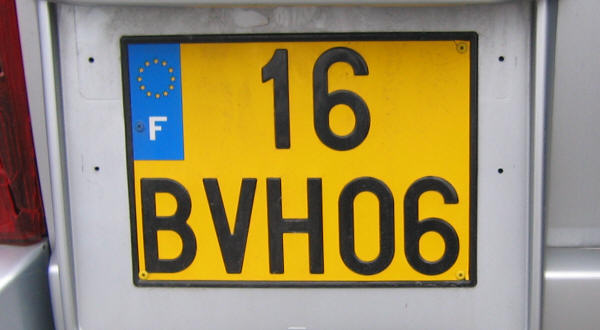license_plate: (118, 34, 476, 290)
